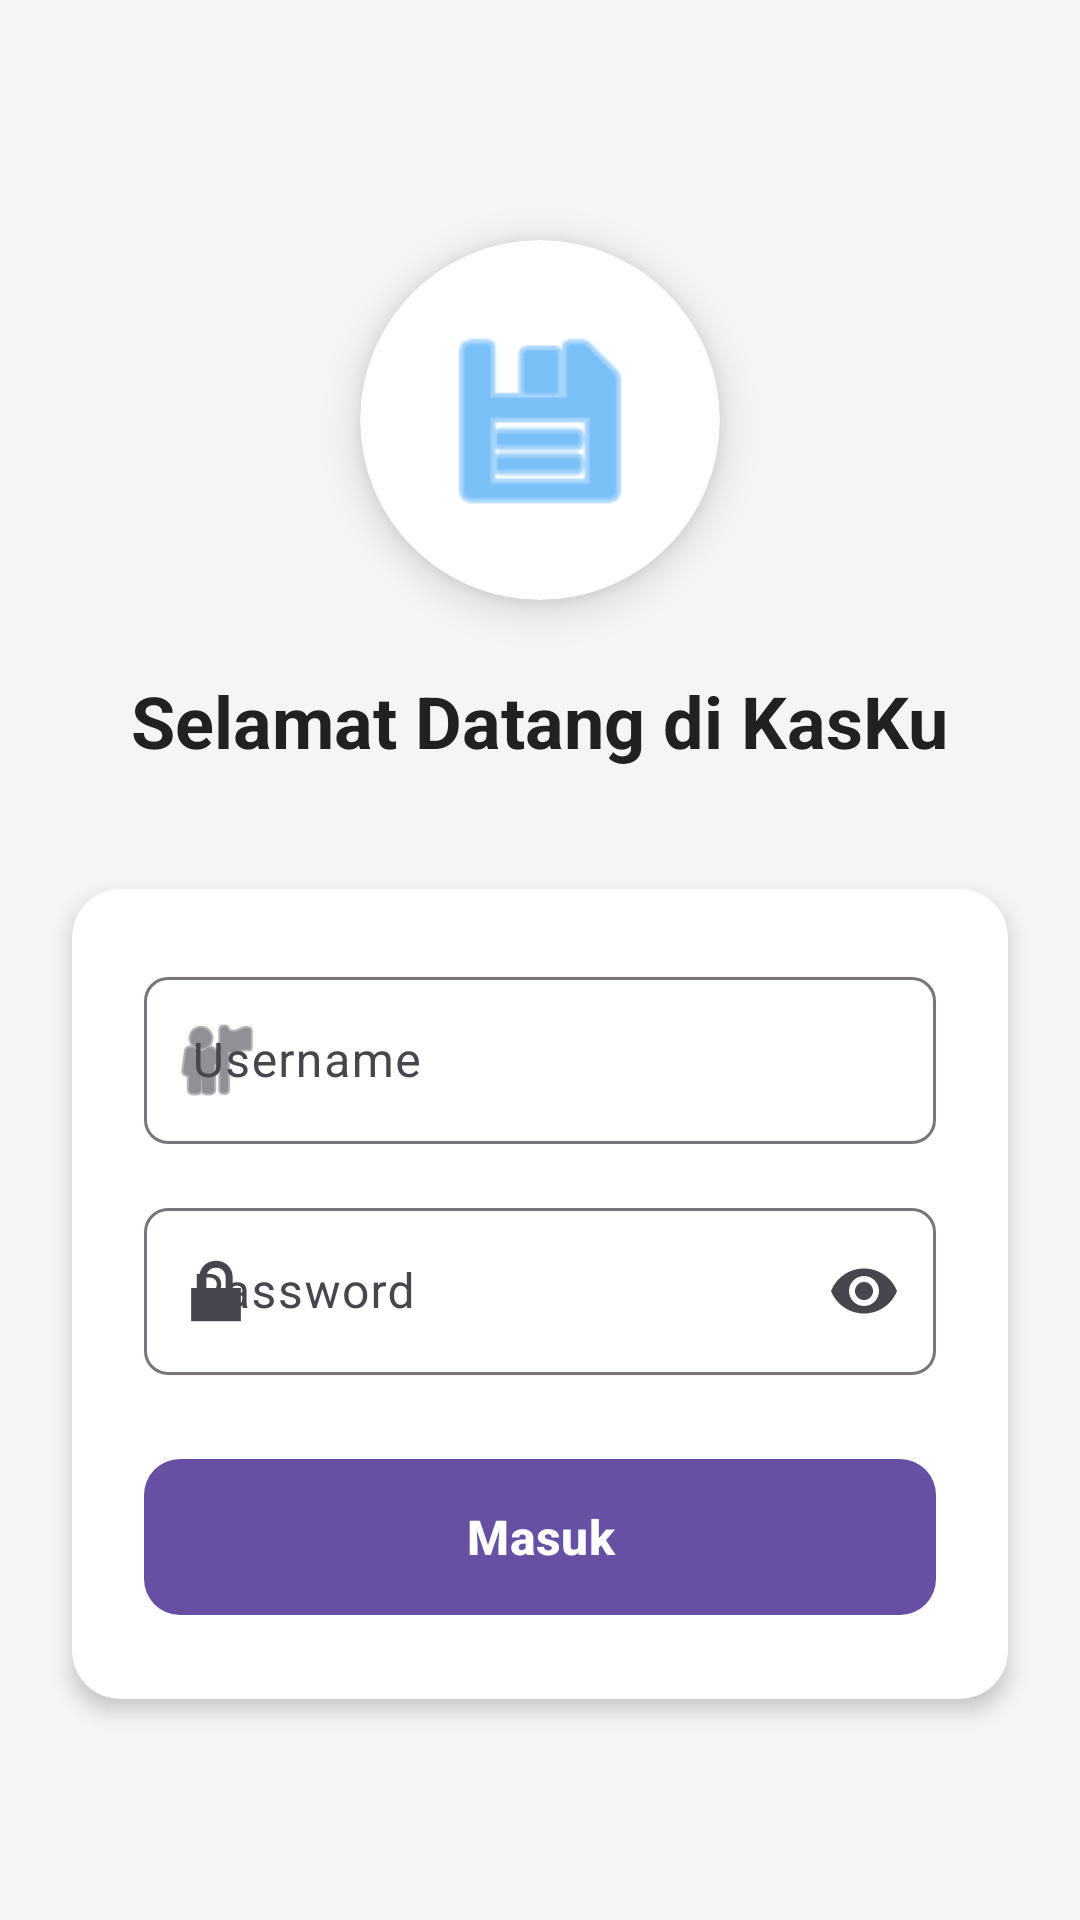

Named icons in this screenshot (1080*1920) and their centers, [x,y]:
save: [540,420]
